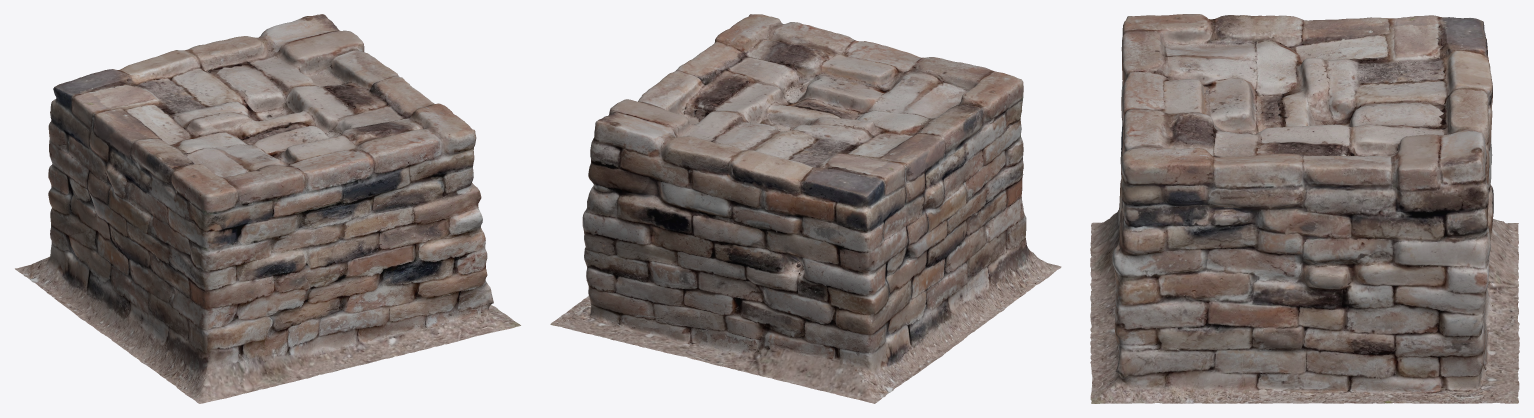
3 views of the same model, side by side, from view 1: azimuth 30°, elevation 25°; view 2: azimuth 150°, elevation 25°; view 3: azimuth 270°, elevation 25° (orthographic). The views are drawn at different scales.
Visible parts, largest first — view 1: OptimizedMesh; view 2: OptimizedMesh; view 3: OptimizedMesh.
Boxes of the visible parts, x1=… form: OptimizedMesh: x1=15, y1=14, x2=520, y2=403; OptimizedMesh: x1=550, y1=14, x2=1061, y2=403; OptimizedMesh: x1=1090, y1=14, x2=1519, y2=403.
Bounding box in the file's own units: 184 × 108 × 184.
Materials: 1 (1 with a texture image).
